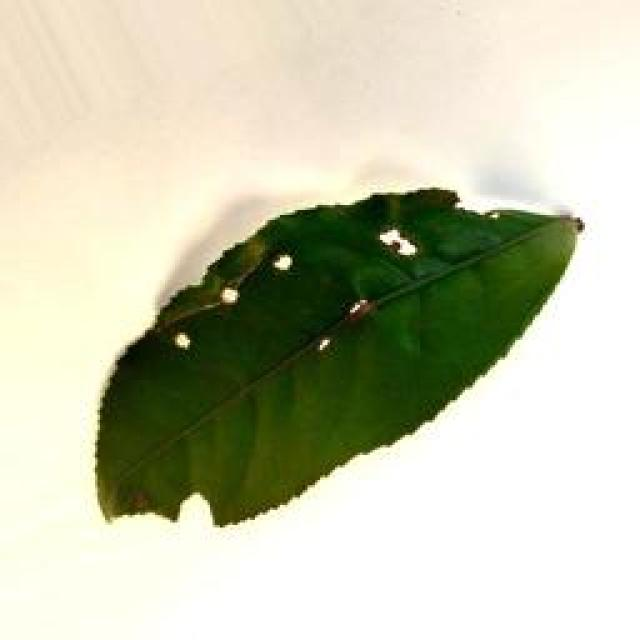Helopeltis: (87, 189, 587, 523)
